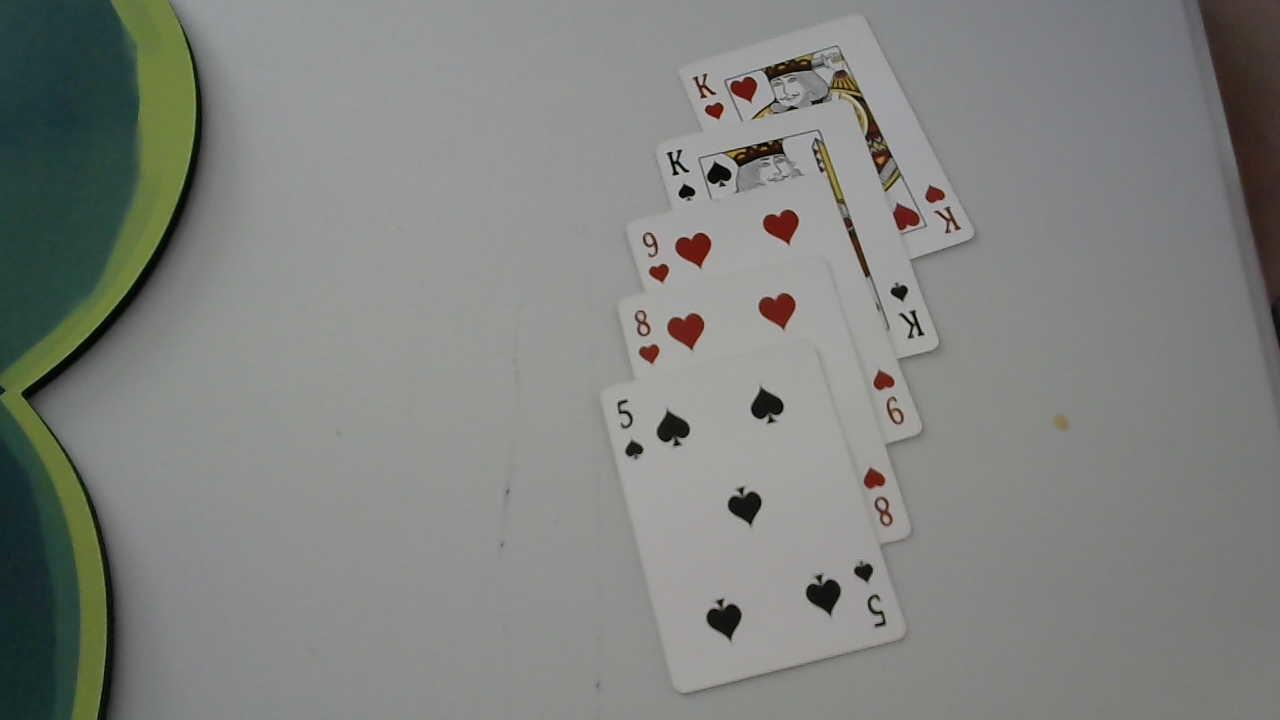5S: (850, 553, 891, 629), (611, 391, 648, 463)
8H: (859, 457, 895, 529), (629, 303, 664, 370)
9H: (867, 360, 915, 435), (637, 229, 672, 284)
KH: (916, 178, 963, 234), (690, 64, 734, 123)
KS: (884, 273, 927, 345), (658, 144, 704, 209)
